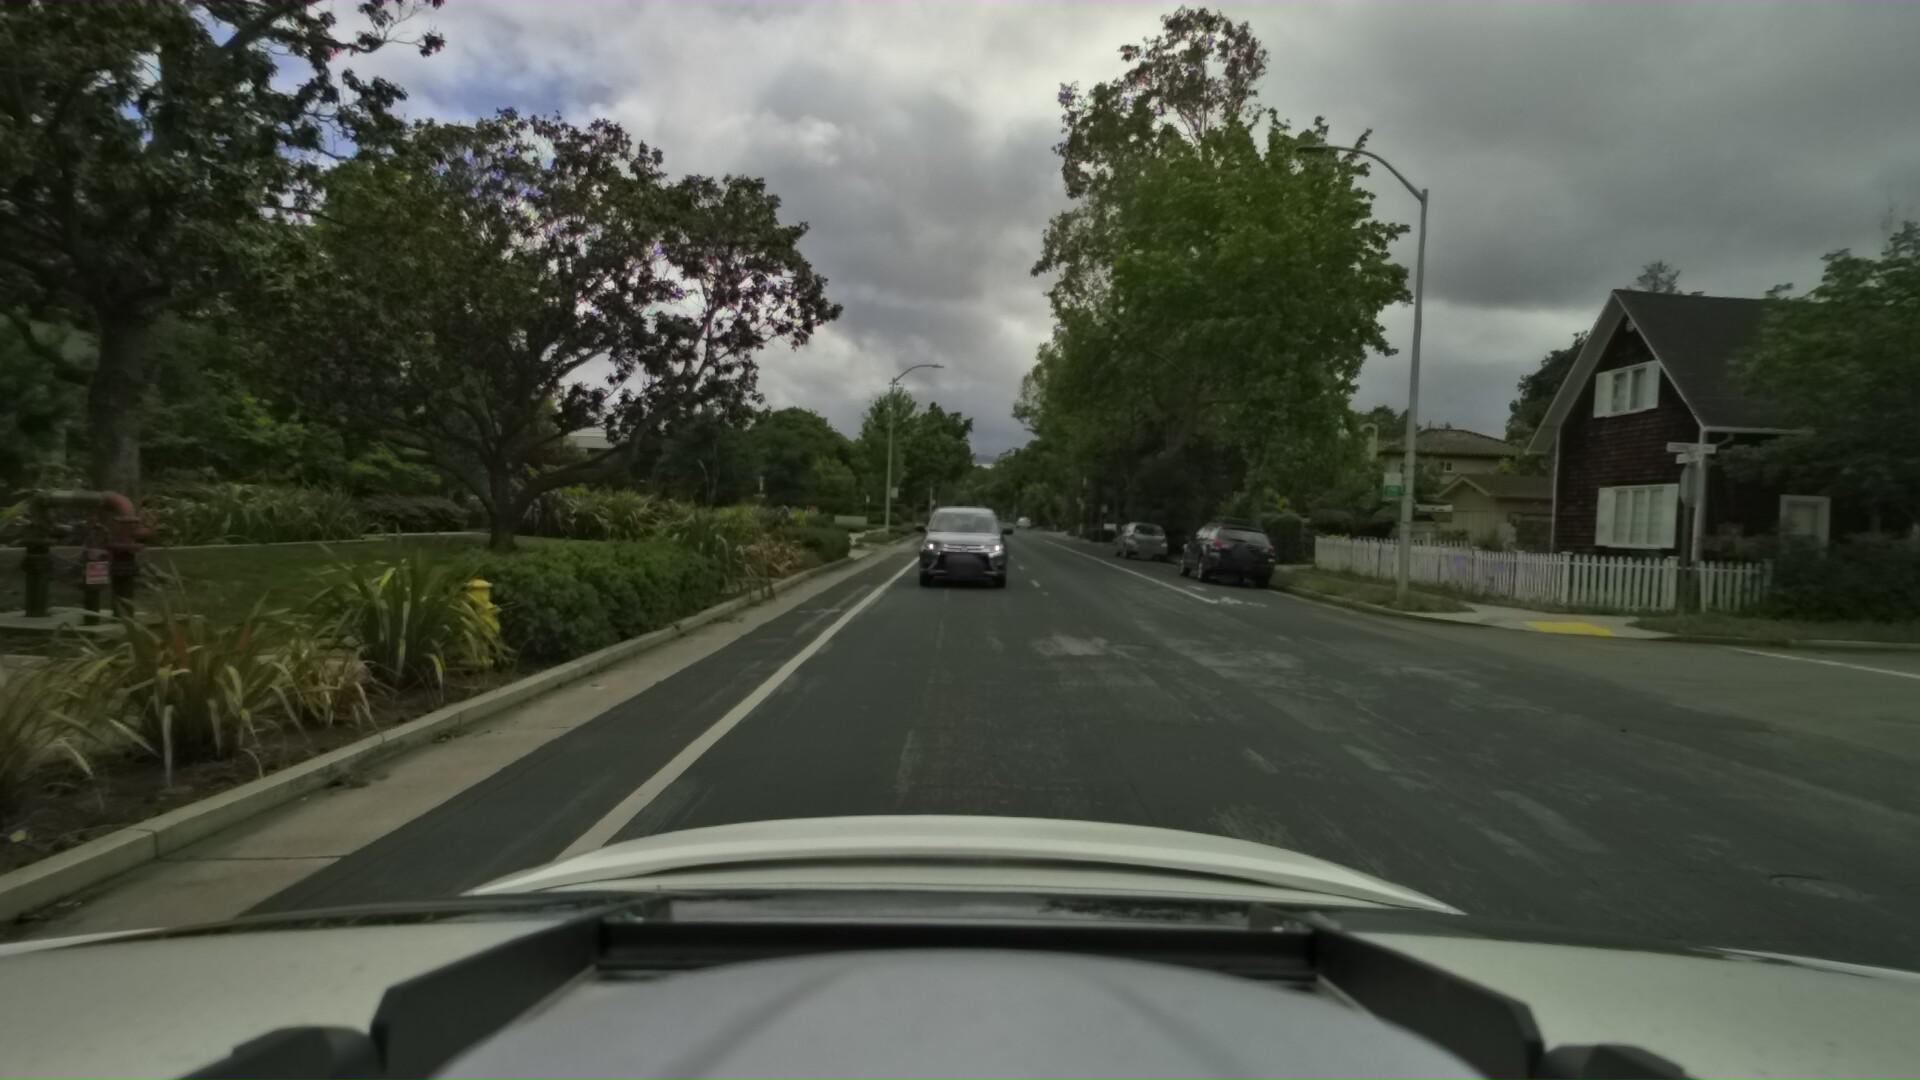car: (1167, 508, 1282, 589), (910, 495, 1007, 589), (1108, 516, 1168, 560)
